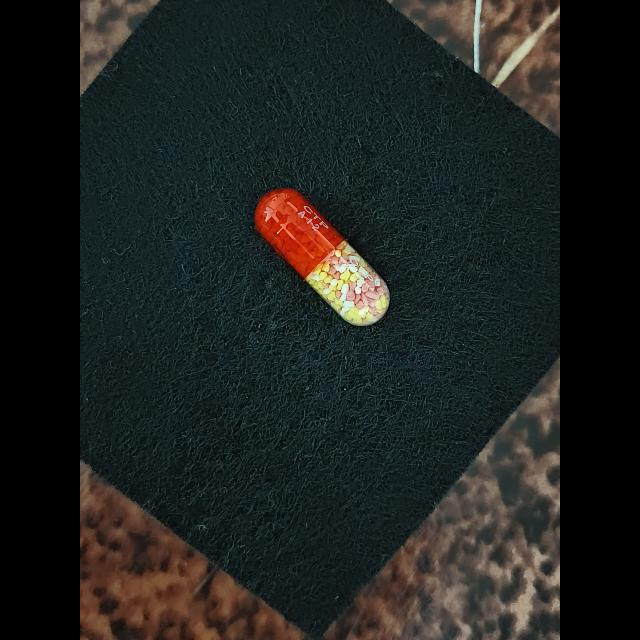Intact Capsule: (255, 188, 390, 326)
